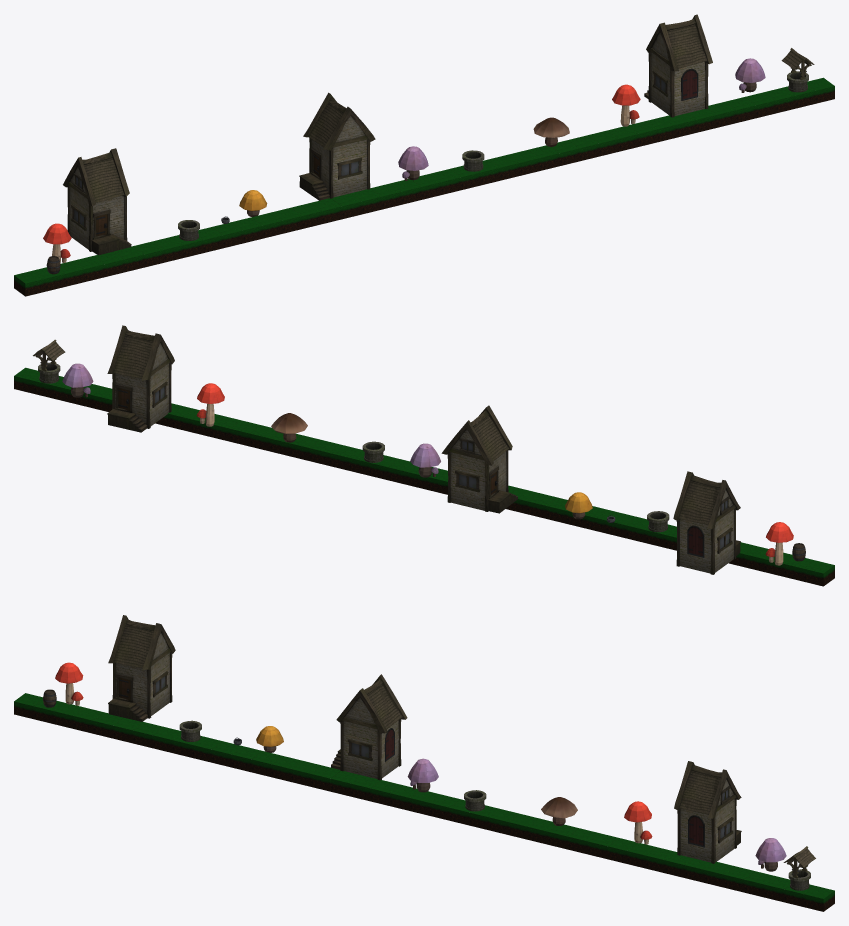
The model's file is Mapa.obj.
3 views of the same model, one above another, from view 1: azimuth 30°, elevation 25°; view 2: azimuth 150°, elevation 25°; view 3: azimuth 330°, elevation 25° (orthographic).
Size of the model in its own units: 172 by 20.06 by 15.95.
